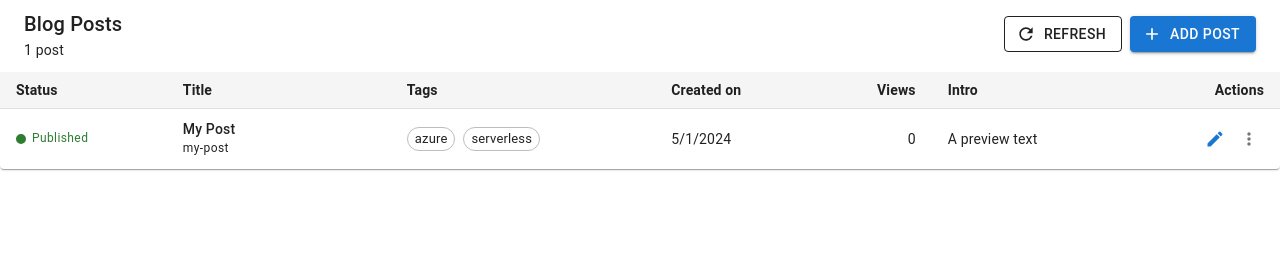
it: Posts page › only offers publishing for posts that are not public yet
Expected: the text "My Post" is shown, [183, 121, 235, 137]
Click the button named "Actions for My Post" at [1249, 139], box [1234, 124, 1264, 154]
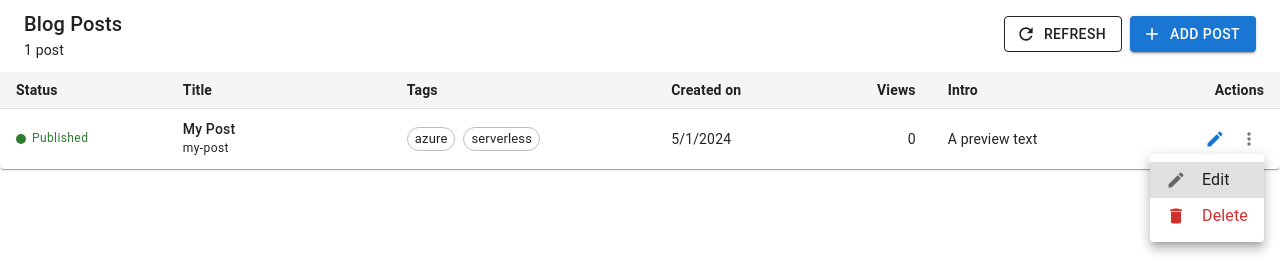
Expected: the menu item "Edit" is shown, [1150, 162, 1264, 198]
Expected: the menu item "Delete" is shown, [1166, 206, 1248, 226]
